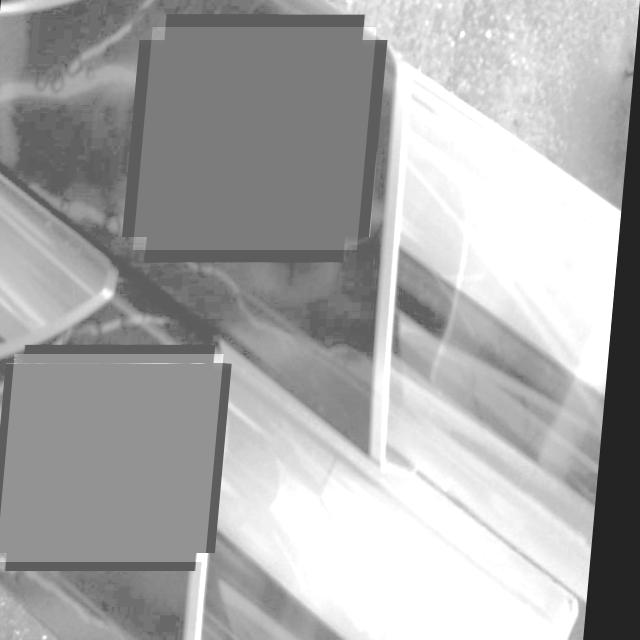qr_code: (137, 27, 376, 250), (6, 354, 229, 562)
